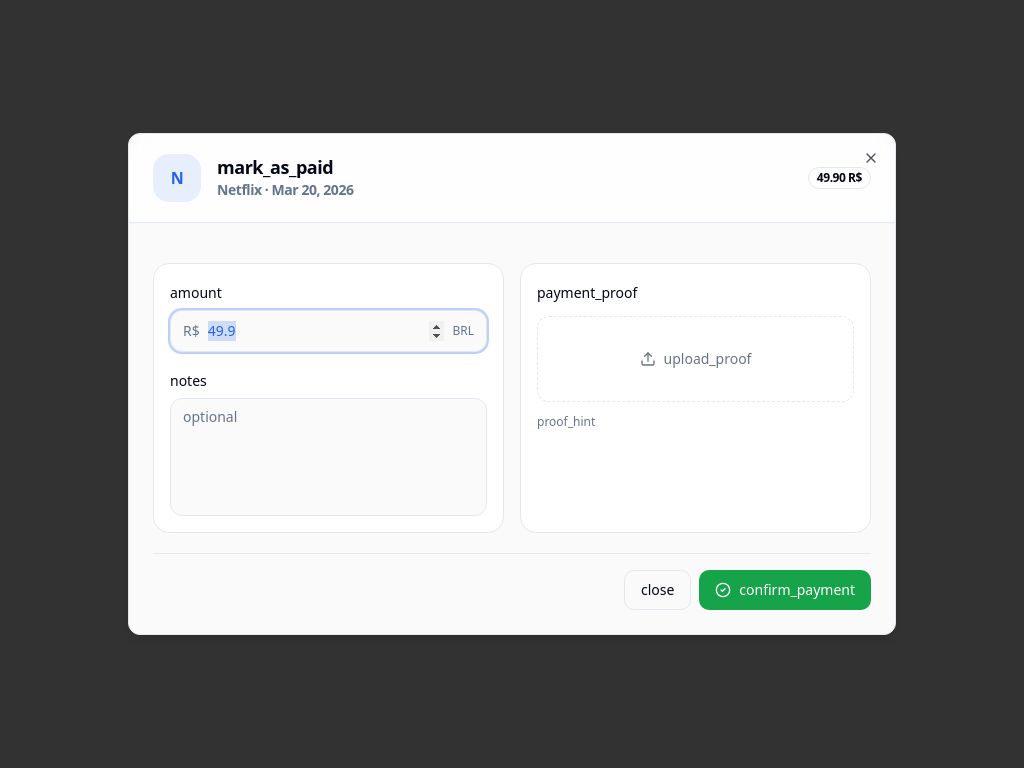
MarkAsPaidModal › shows saving label while mutation is pending (line 268 isPending branch)
What coordinates should you click on to do the following:
click the button "confirm_payment"
I would click on:
 (785, 590)
Its box is x1=699 y1=570 x2=871 y2=610.
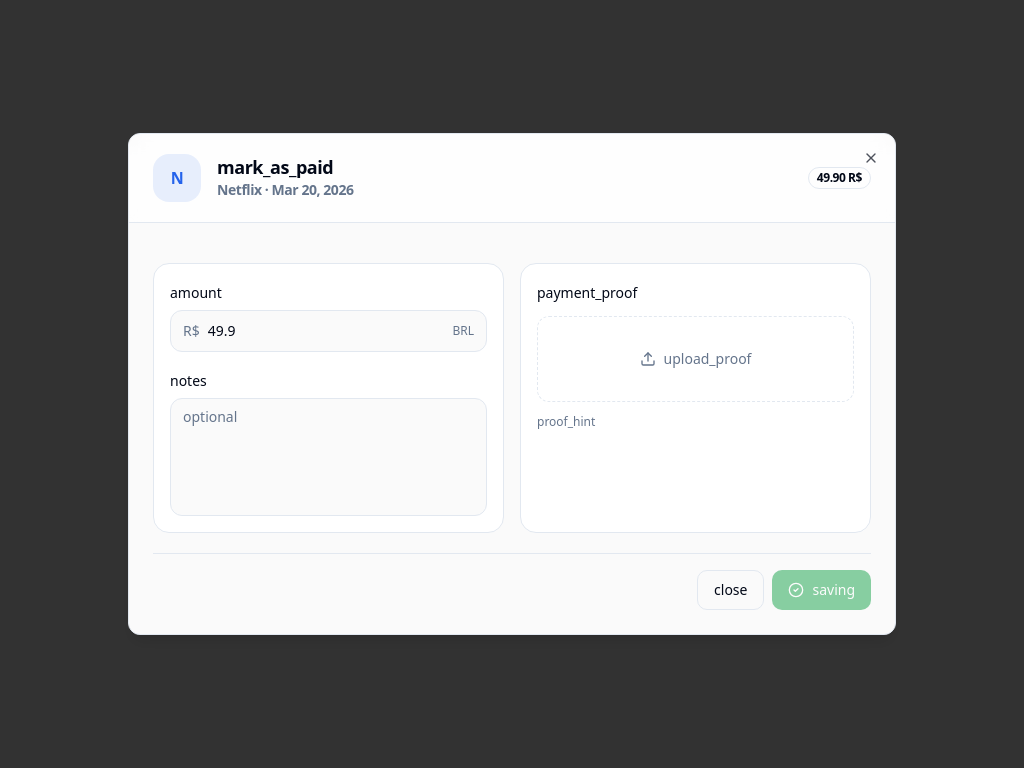
Check: the button "saving" is shown, box x1=772 y1=570 x2=871 y2=610
